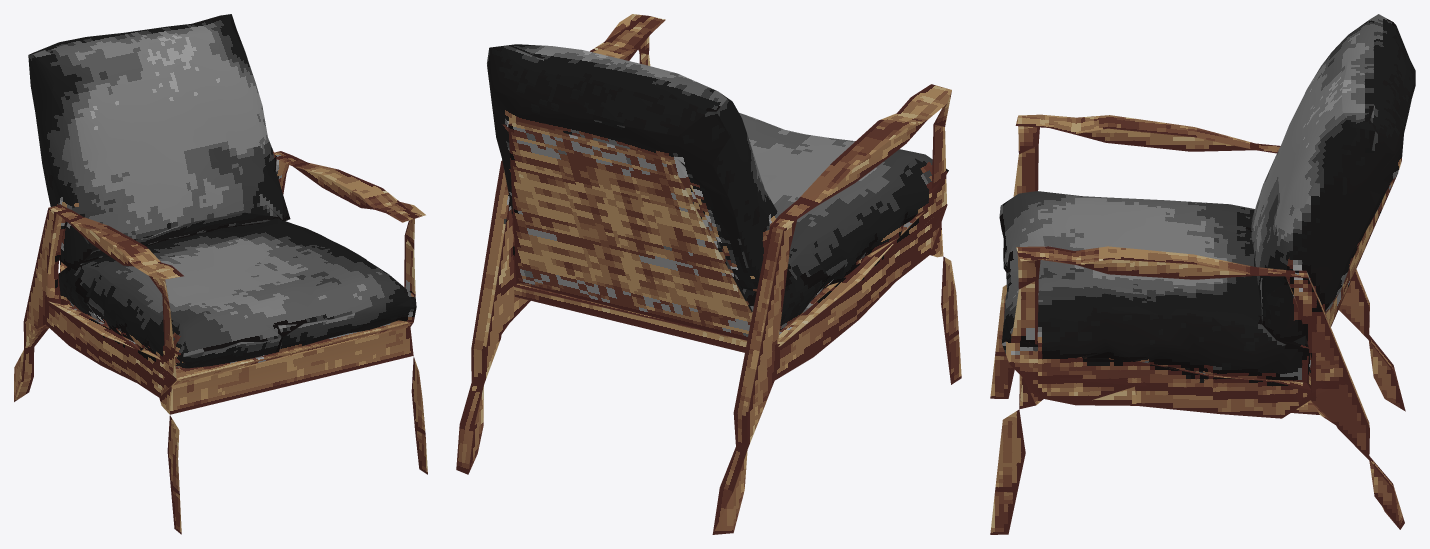
Rendered from modern_arm_chair_01.glb.
The picture shows the model from 3 angles, left to right: view 1: azimuth 30°, elevation 25°; view 2: azimuth 150°, elevation 25°; view 3: azimuth 270°, elevation 25°; orthographic projection. The views are drawn at different scales.
Parts seen in each view (by area): view 1: mesh; view 2: mesh; view 3: mesh.
Boxes of the visible parts, x1,y1,x2,y2 form: mesh: (14, 14, 427, 534); mesh: (456, 14, 961, 534); mesh: (990, 14, 1415, 534).
Bounding box in the file's own units: 0.8154 × 1.02 × 0.9863.
Materials: 1 (1 with a texture image).
